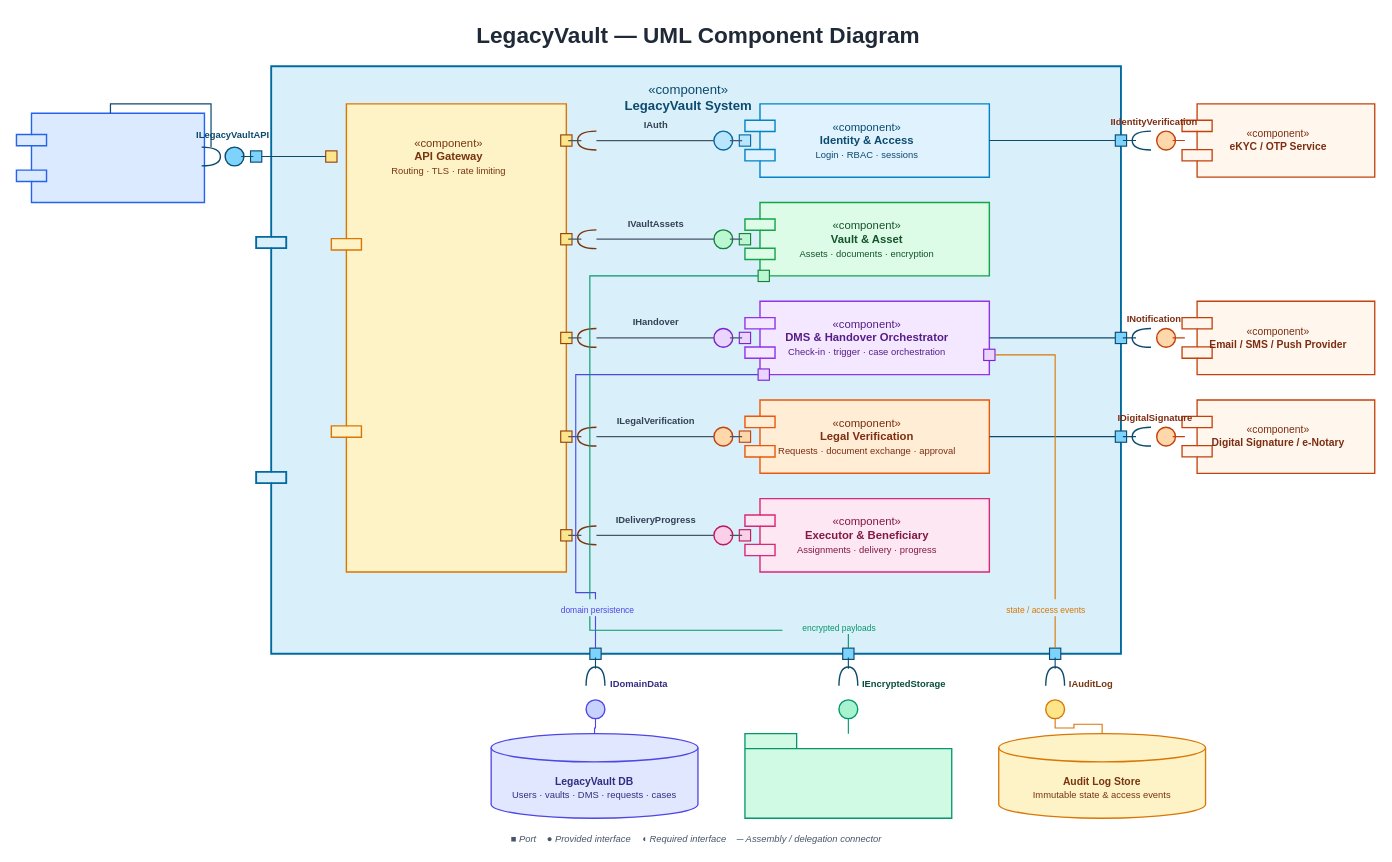
Image size: 1392x862. Some labels were removed from this diagram. Each missing label, with the centre of its shape:
Encrypted Object Storage Documents · payloads · backups: [848,775]
«component» Web Portal Owner · Executor · Beneficiary Verifier · Admin: [110,157]
